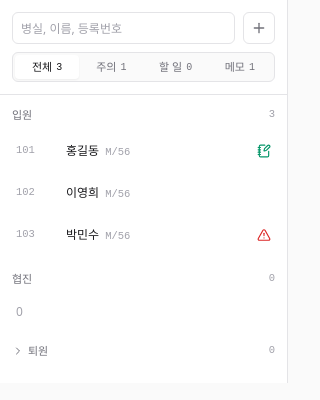
Scenario: PatientRail 메모 필터 › shows everyone again after resetting
Click the button "메모 1".
click(240, 67)  # box [208,55,272,79]
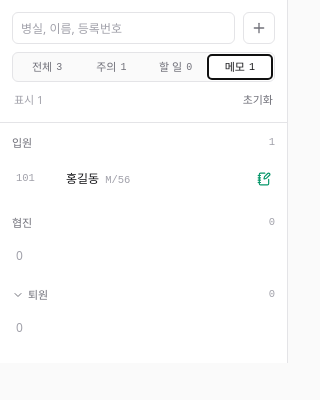
Click the button "초기화".
click(258, 100)  # box [243,92,273,108]
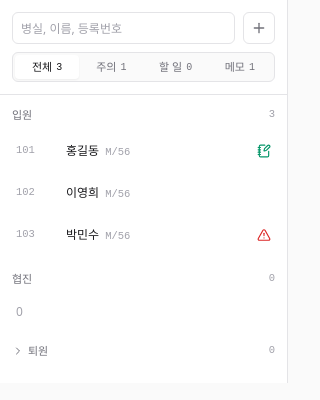
Now the text "이영희" is shown, box [66,184,99,201]
